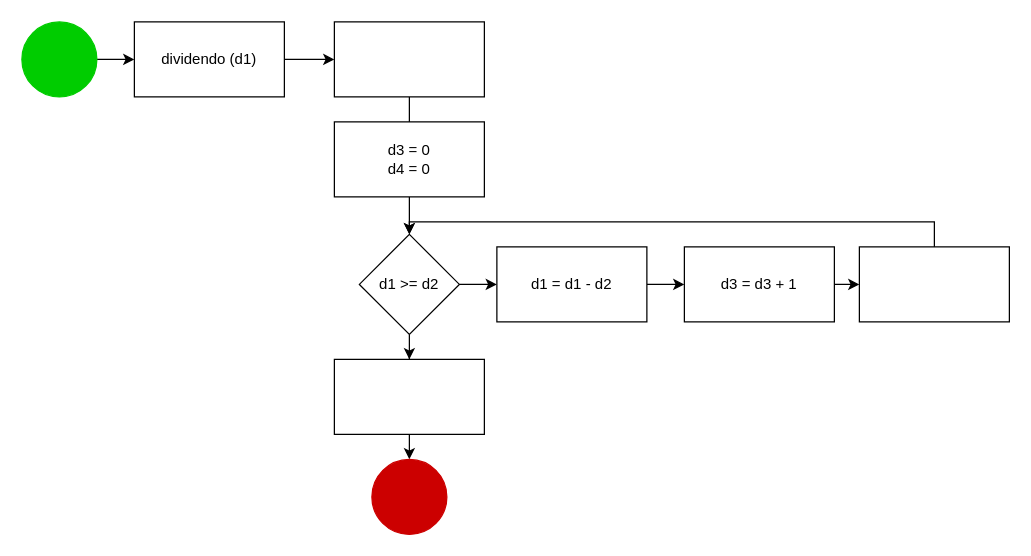
This 1031x556 diagram has some shape labels left out. Here are the shapes that lost their labels. From the top down, the box of each, then its label:
(333, 21, 484, 97): divisor (d2)
(333, 358, 484, 434): exibir resto
